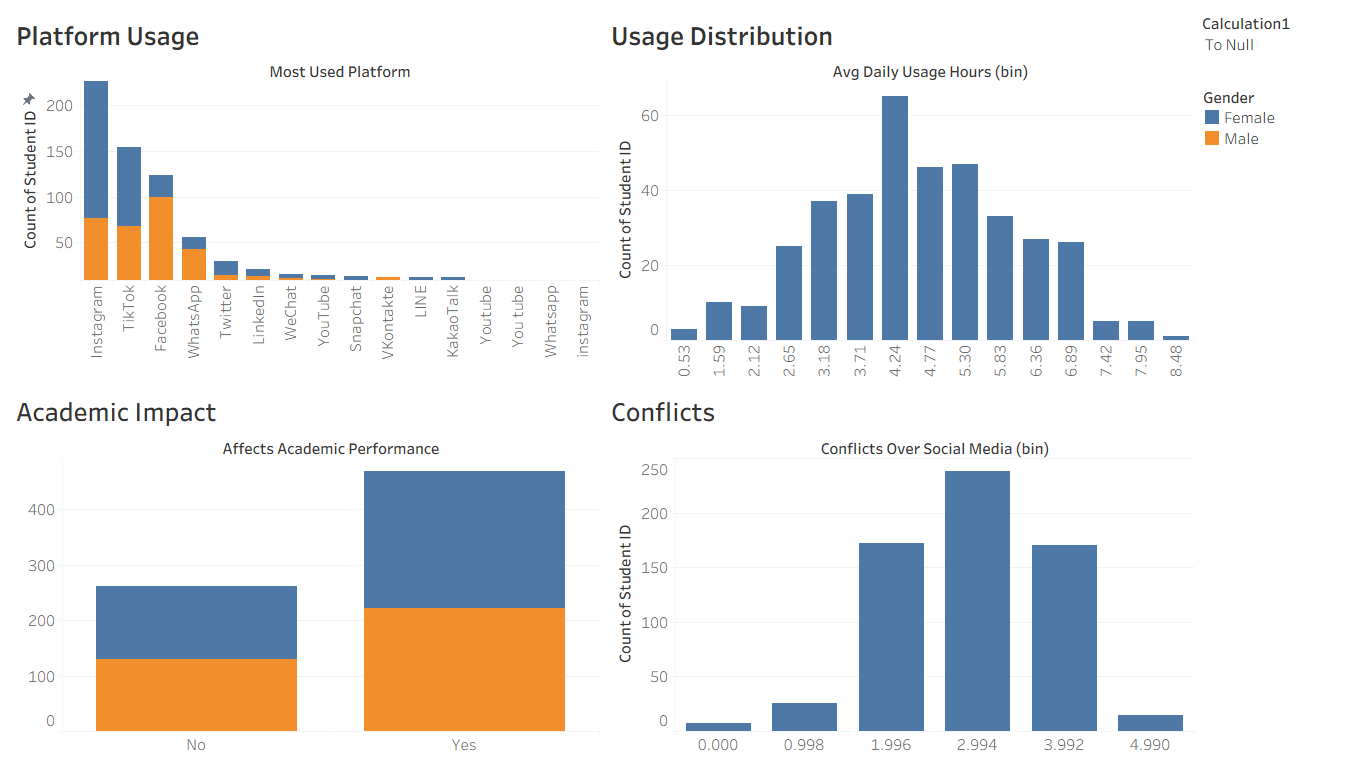

What the dashboard file says about the page in this screenshot:
{"tool":"tableau","page":{"name":"Dashboard 2","canvas":[1366,768],"ordinal":1},"visuals":[{"type":"worksheet","title":"bar chart","mark":"Automatic","rows":["Student_ID"],"cols":["Most_Used_Platform"],"box":[8,8,595,376]},{"type":"worksheet","title":"histogram","mark":"Automatic","rows":["Student_ID"],"cols":["Avg Daily Usage Hours (bin)"],"box":[603,8,595,376]},{"type":"filter","title":"bar chart","param":"[federated.0ibir9y0tnsdv21guqawn1yfv0rs].[usr:Calculation1:qk]","box":[1198,8,160,73]},{"type":"legend","title":"stacked bar","param":"[federated.0ibir9y0tnsdv21guqawn1yfv0rs].[none:Gender:nk]","box":[1198,81,160,72]},{"type":"worksheet","title":"stacked bar","mark":"Automatic","rows":["Student_ID"],"cols":["Affects_Academic_Performance"],"box":[8,384,595,376]},{"type":"worksheet","title":"bar graph","mark":"Automatic","rows":["Student_ID"],"cols":["Conflicts Over Social Media (bin)"],"box":[603,384,595,376]}]}

Visuals, with their boxes in screenshot pixels (x1, y1, x2, y2), scaled from the page's 1366x768 canvas onto the 1366x768 screenshot:
"bar chart" worksheet: (8, 8, 603, 384)
"histogram" worksheet: (603, 8, 1198, 384)
"bar chart" filter: (1198, 8, 1358, 81)
"stacked bar" legend: (1198, 81, 1358, 153)
"stacked bar" worksheet: (8, 384, 603, 760)
"bar graph" worksheet: (603, 384, 1198, 760)
